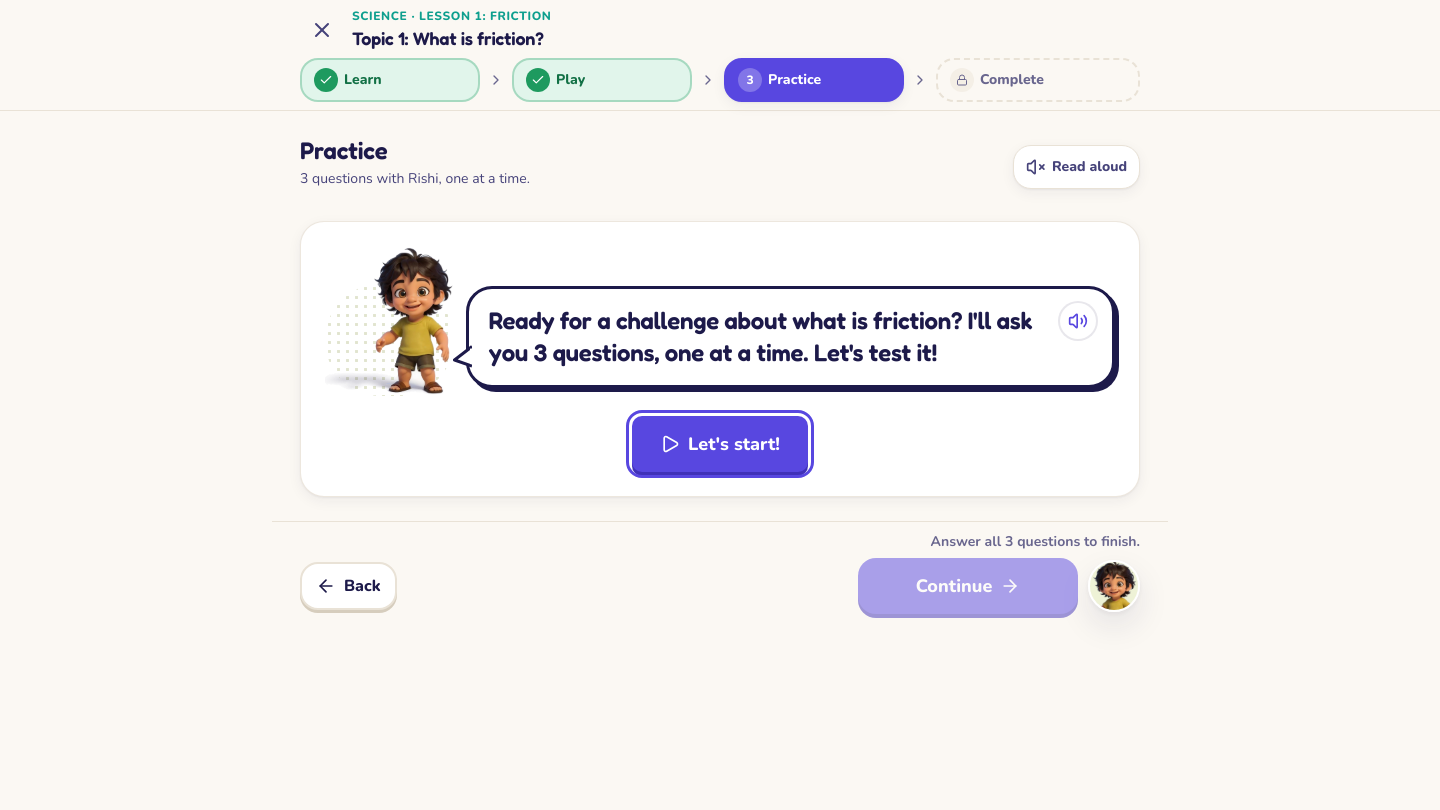
Test: learning hierarchy › opens Practice once Play is done
The image size is (1440, 810).
Expected: the heading "Practice" is shown, [300,136,387,165]
The mentor welcomes the learner first, then asks one question at a time.
Click the button "Let's start!": (720, 444) [632,416,808,472]
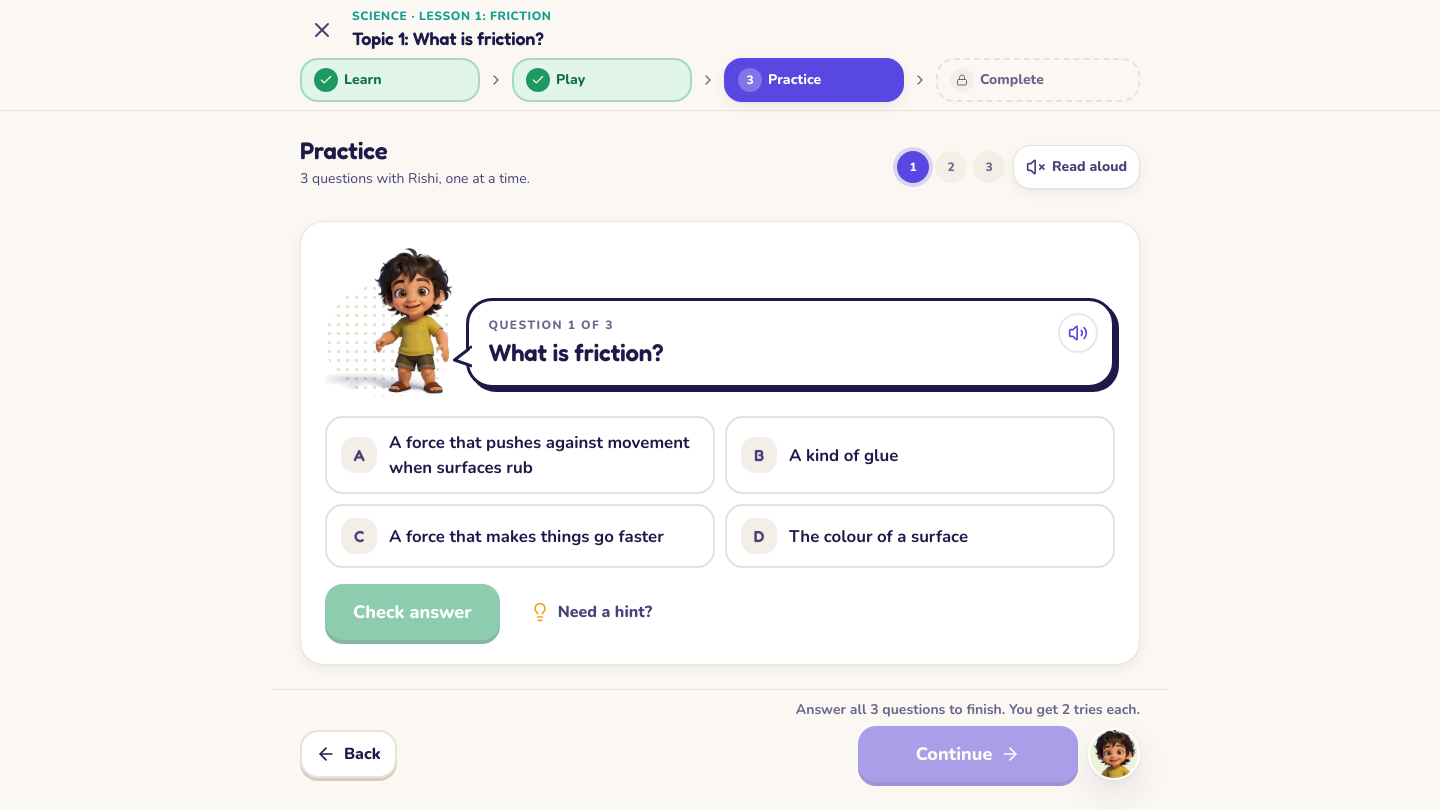
Expected: the text "Question 1 of 3" is shown, [488,317,614,333]
